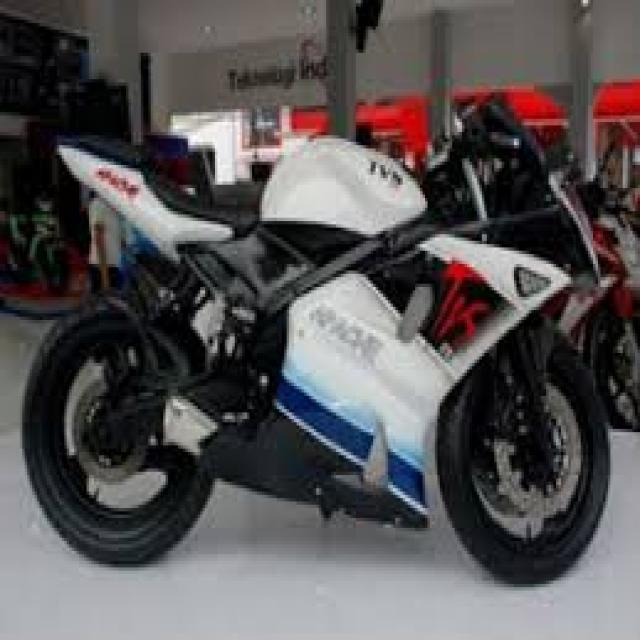bike: (42, 122, 607, 568)
